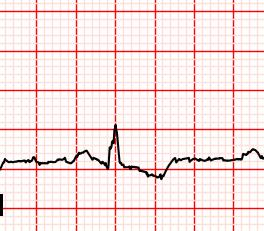T inversion: (131, 152, 186, 186)
